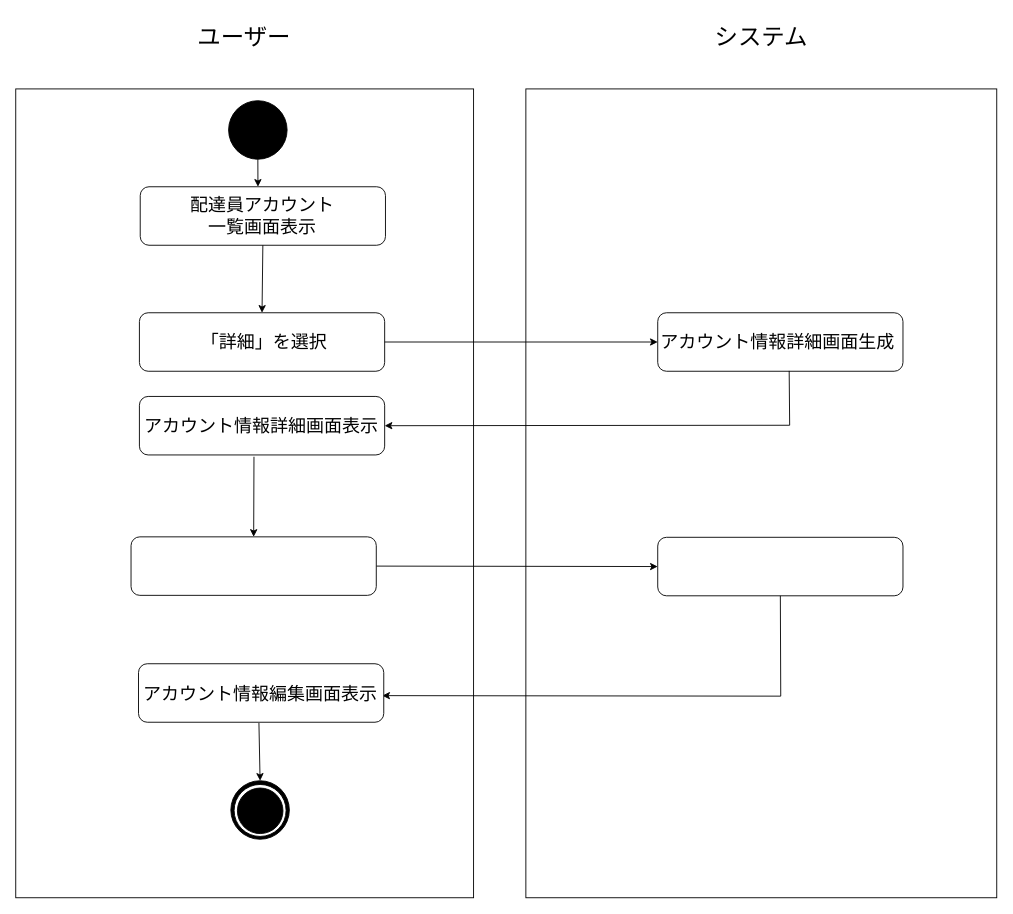
This 1013x914 diagram has some shape labels left out. Each missing label, with the centre of its shape:
"「編集」を選択" goes at (x=253, y=565).
"アカウント情報編集画面生成" goes at (x=780, y=566).
